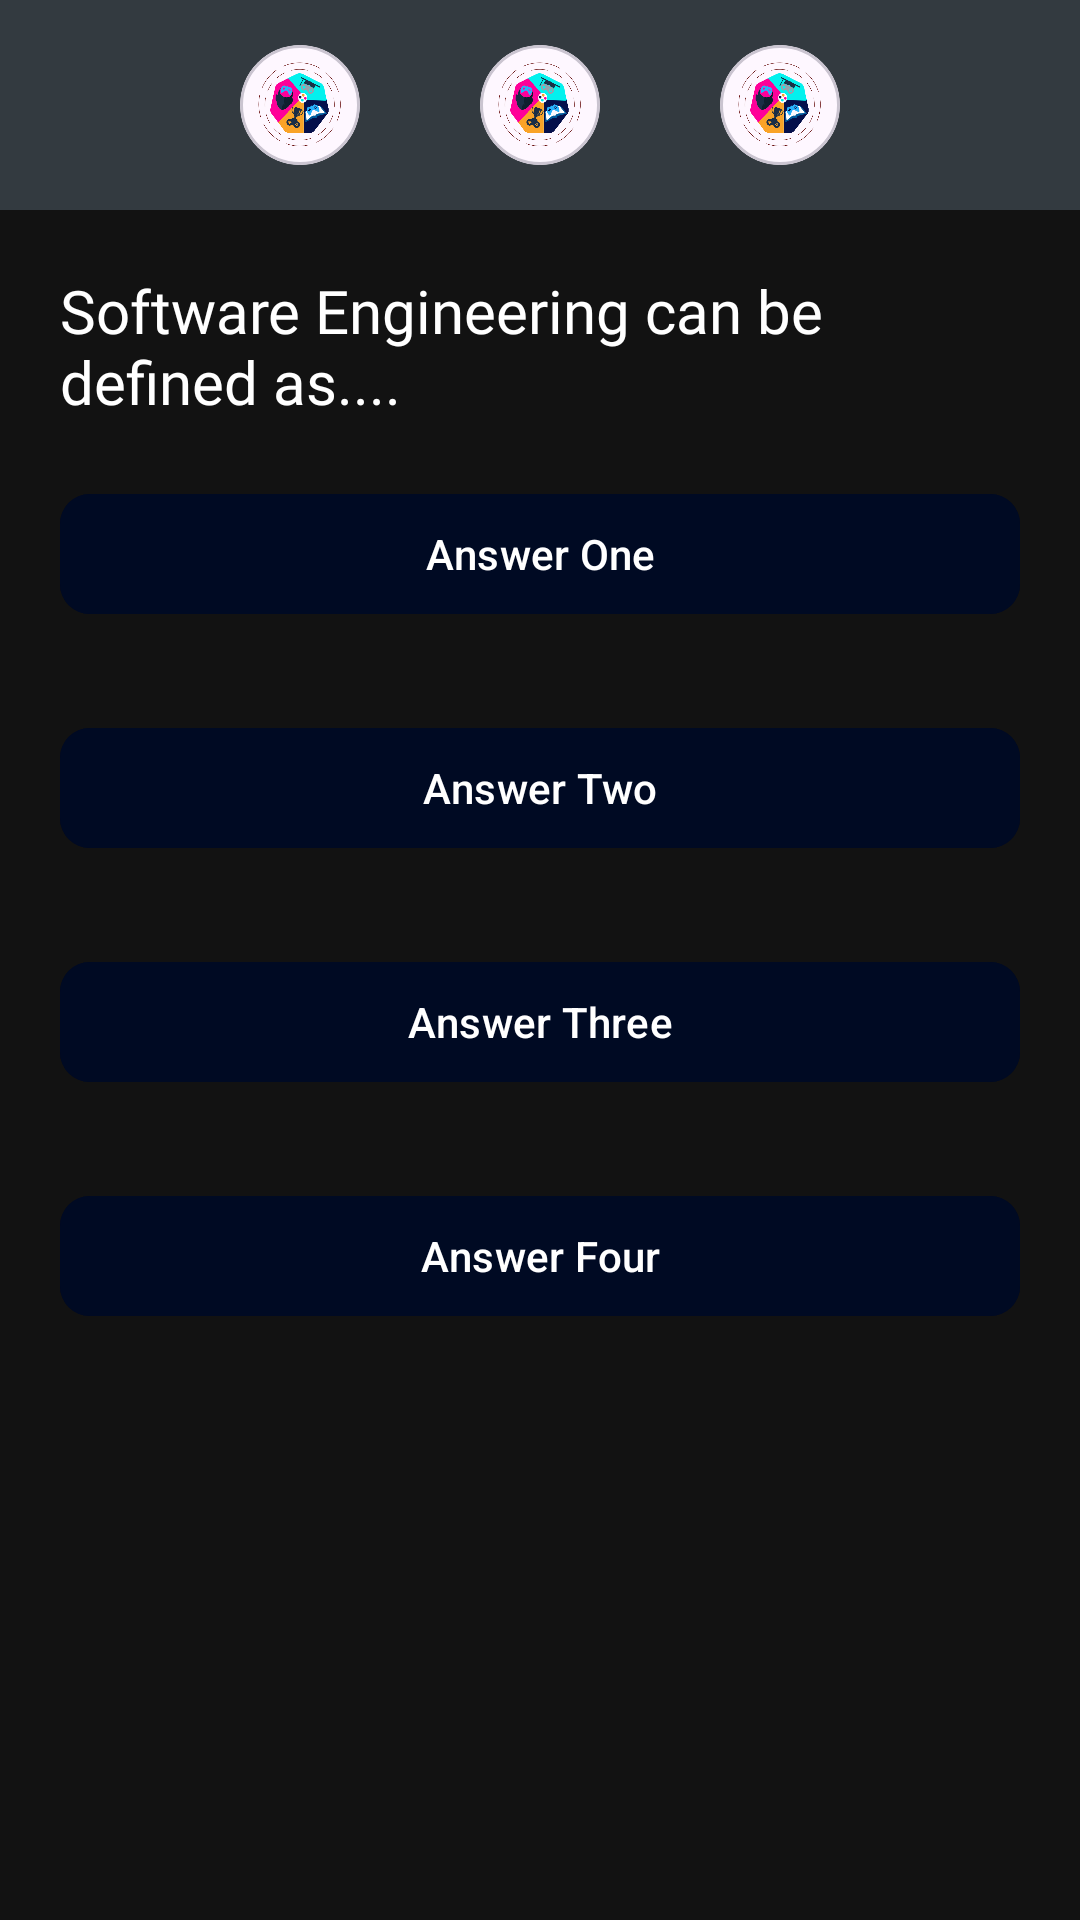

Icons on this 1080*1920 Android screen, each with the point to tap as [x,y]:
game: [300,105], [540,105], [780,105]
